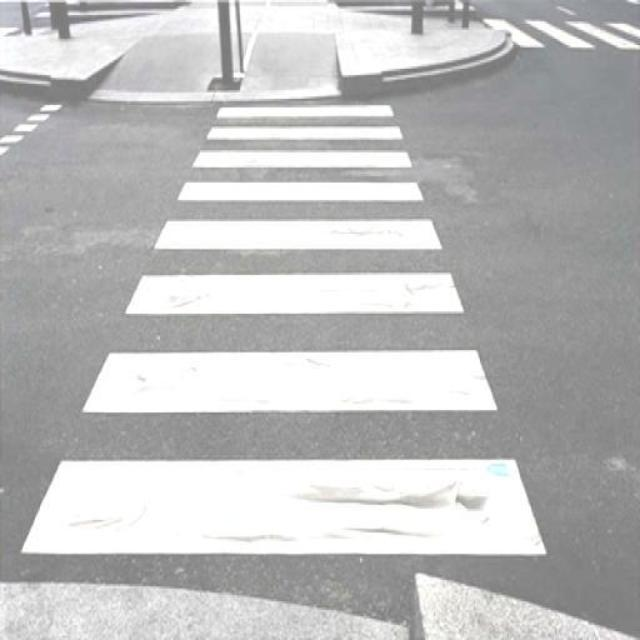sidewalk: (21, 101, 548, 560), (492, 19, 640, 51)
